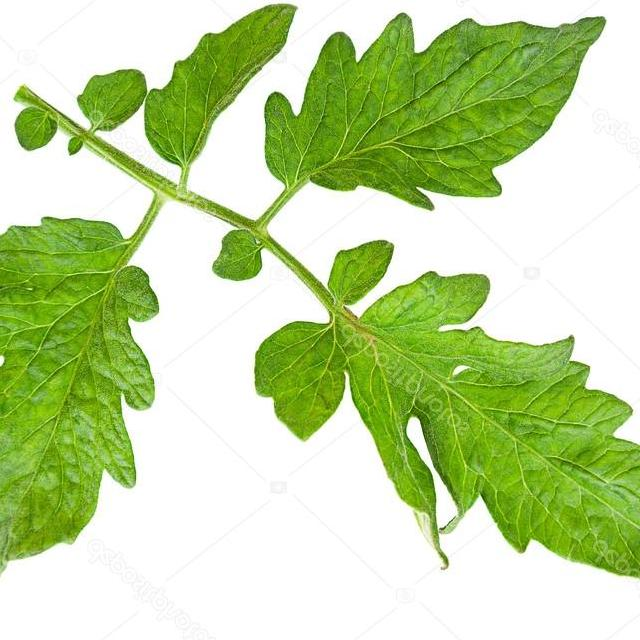Tomato leaf: (220, 251, 640, 628), (261, 4, 640, 198), (0, 221, 179, 578), (139, 0, 302, 186)
